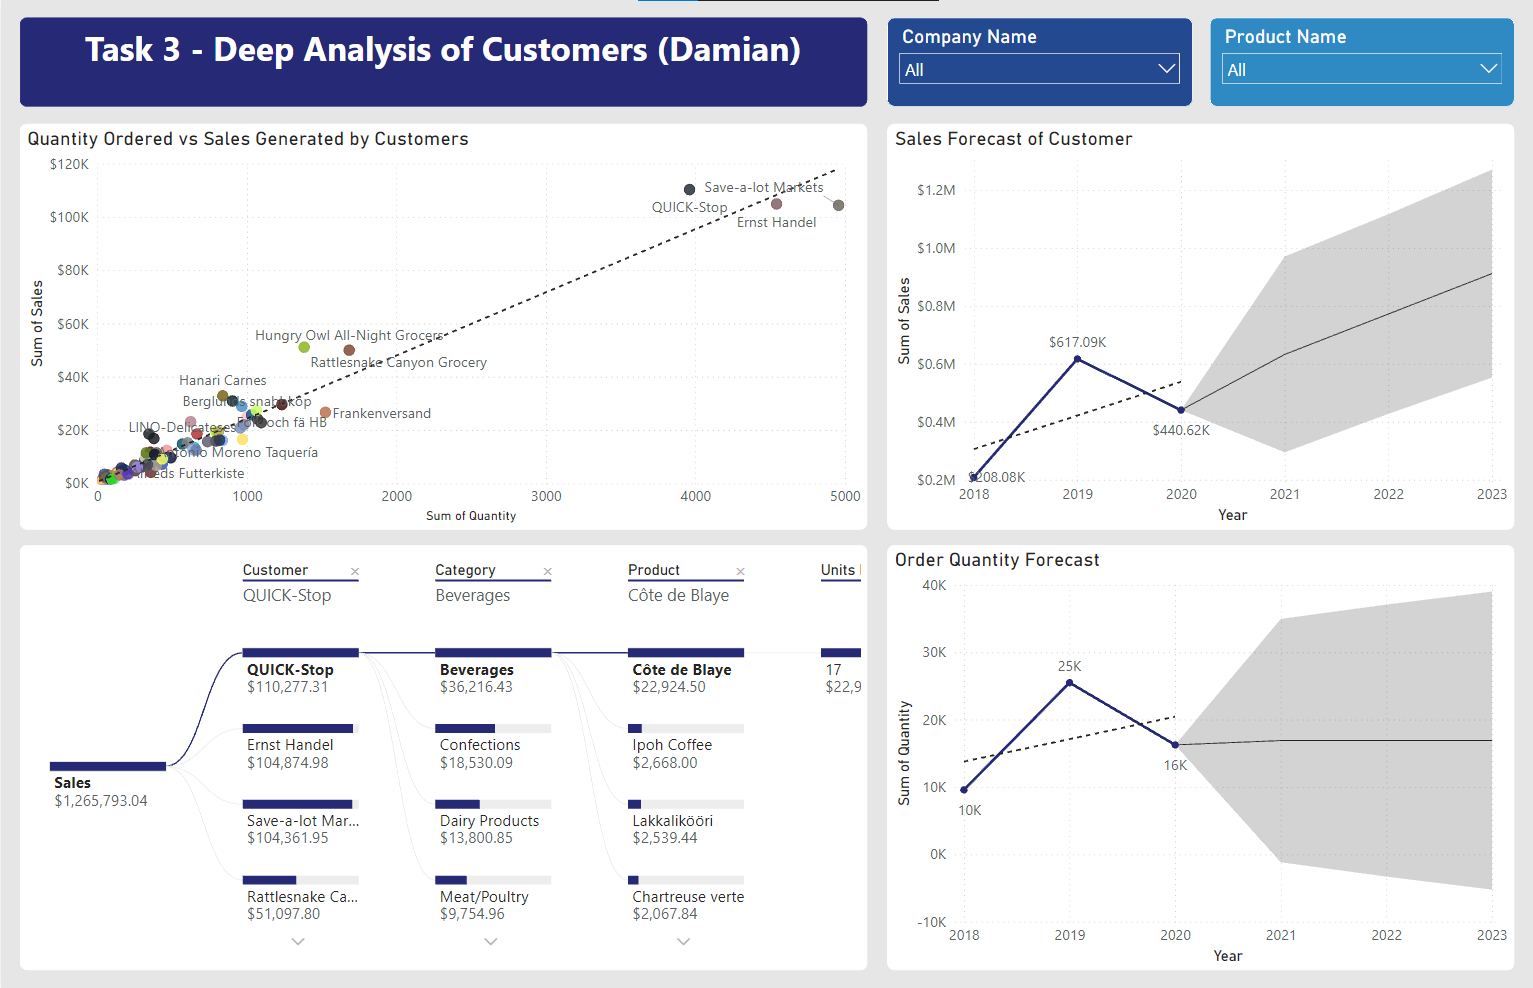

Layout of this report page (visuals, bound fields, positions):
{"tool":"powerbi","page":{"name":"Deep Analysis of Customers (Damian)","canvas":[1720,1110],"ordinal":9},"visuals":[{"type":"textbox","box":[21.7,20,950,100],"z":0},{"type":"decompositionTreeVisual","fields":{"ExplainBy":["Customers.Company Name","Categories.Category Name","Products.Product Name","Products.Units In Stock","Order Details.Quantity"],"Analyze":["Sum(Order Details.Sales)"]},"box":[21.7,611.7,950,476.7],"z":1000},{"type":"scatterChart","title":"Quantity Ordered vs Sales Generated by Customers","fields":{"X":["Sum(Order Details.Quantity)"],"Series":["Customers.Company Name"],"Y":["Sum(Order Details.Sales)"]},"box":[21.7,138.3,950,455],"z":2000},{"type":"lineChart","title":"Order Quantity Forecast","fields":{"Category":["Master Date.Year"],"Y":["Sum(Order Details.Quantity)"]},"box":[993.3,611.7,703.3,476.7],"z":3000},{"type":"lineChart","title":"Sales Forecast of Customer","fields":{"Y":["Sum(Order Details.Sales)"],"Category":["Master Date.Year"]},"box":[993.3,138.3,703.3,455],"z":4000},{"type":"slicer","fields":{"Values":["Customers.Company Name"]},"box":[993.3,20,342,100],"z":5000},{"type":"slicer","fields":{"Values":["Products.Product Name"]},"box":[1355,20,341.7,100],"z":6000}]}

Visuals, with their boxes in screenshot pixels (x1, y1, x2, y2), scaled from the page's 1720x1110 canvas onto the 1533x988 screenshot:
textbox: (left=19, top=18, right=866, bottom=107)
decompositionTreeVisual - Customers.Company Name x Categories.Category Name: (left=19, top=544, right=866, bottom=969)
"Quantity Ordered vs Sales Generated by Customers" scatterChart: (left=19, top=123, right=866, bottom=528)
"Order Quantity Forecast" lineChart: (left=885, top=544, right=1512, bottom=969)
"Sales Forecast of Customer" lineChart: (left=885, top=123, right=1512, bottom=528)
slicer - Customers.Company Name: (left=885, top=18, right=1190, bottom=107)
slicer - Products.Product Name: (left=1208, top=18, right=1512, bottom=107)
